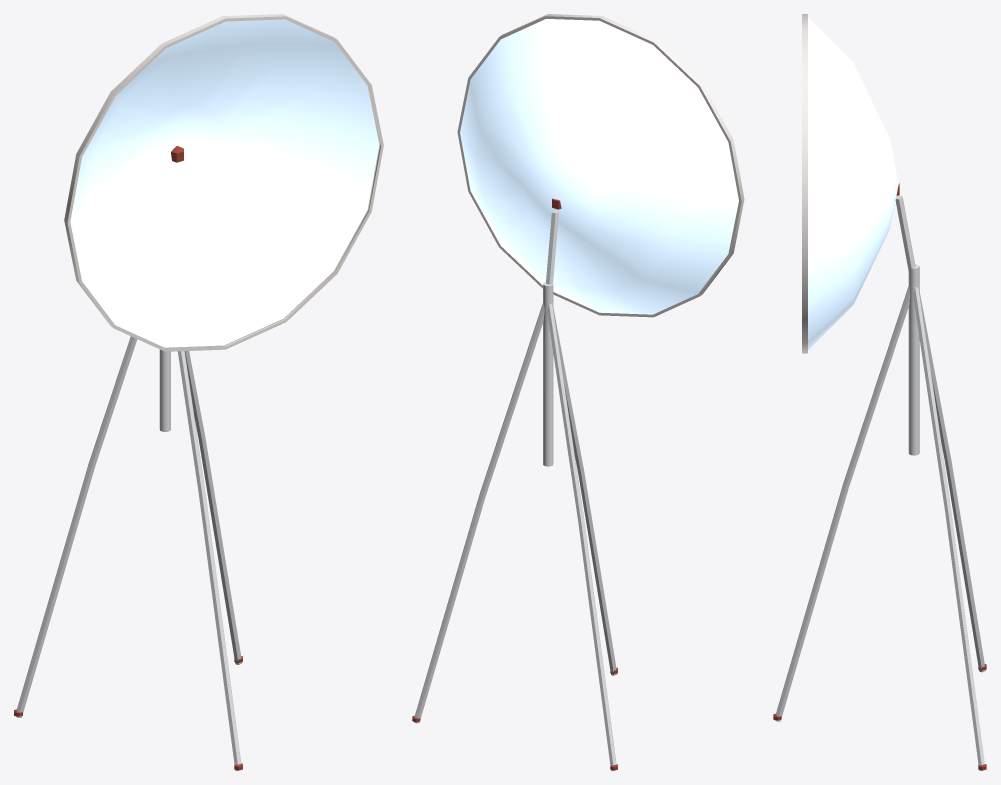
Rendered from umbrella_reflector_stand.glb.
The picture shows the model from 3 angles, left to right: view 1: azimuth 30°, elevation 25°; view 2: azimuth 150°, elevation 25°; view 3: azimuth 270°, elevation 25°; orthographic projection. The views are drawn at different scales.
Parts seen in each view (by area): view 1: umbrella_reflector_stand; view 2: umbrella_reflector_stand; view 3: umbrella_reflector_stand.
Part boxes in pixels (left/top/right/bottom): umbrella_reflector_stand: left=14, top=14, right=383, bottom=770; umbrella_reflector_stand: left=412, top=14, right=744, bottom=770; umbrella_reflector_stand: left=773, top=14, right=986, bottom=770.
Bounding box in the file's own units: 1.12 × 2.51 × 0.702.
